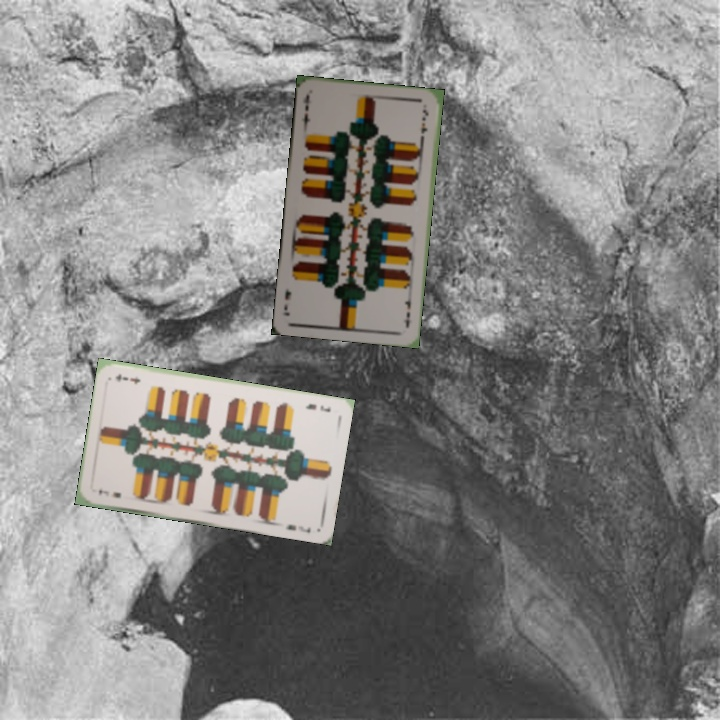E7: (401, 290, 414, 331), (299, 91, 312, 132), (301, 399, 333, 414), (95, 485, 124, 500)
